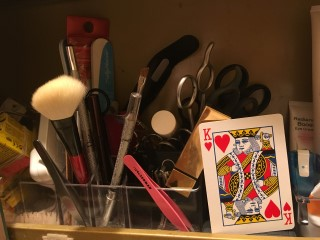KingOfHearts: (198, 113, 295, 233)
